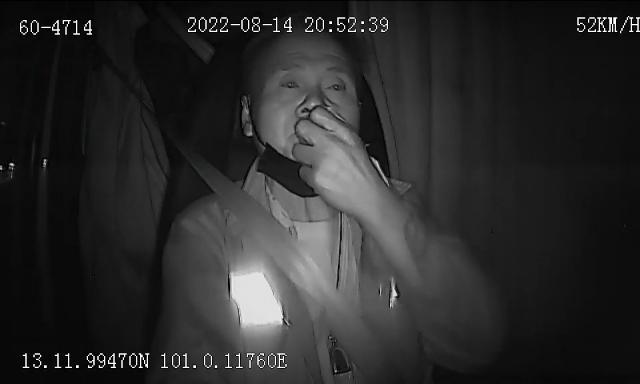SafeDriving: (274, 69, 306, 96)
Seatbelt: (186, 148, 380, 384)
